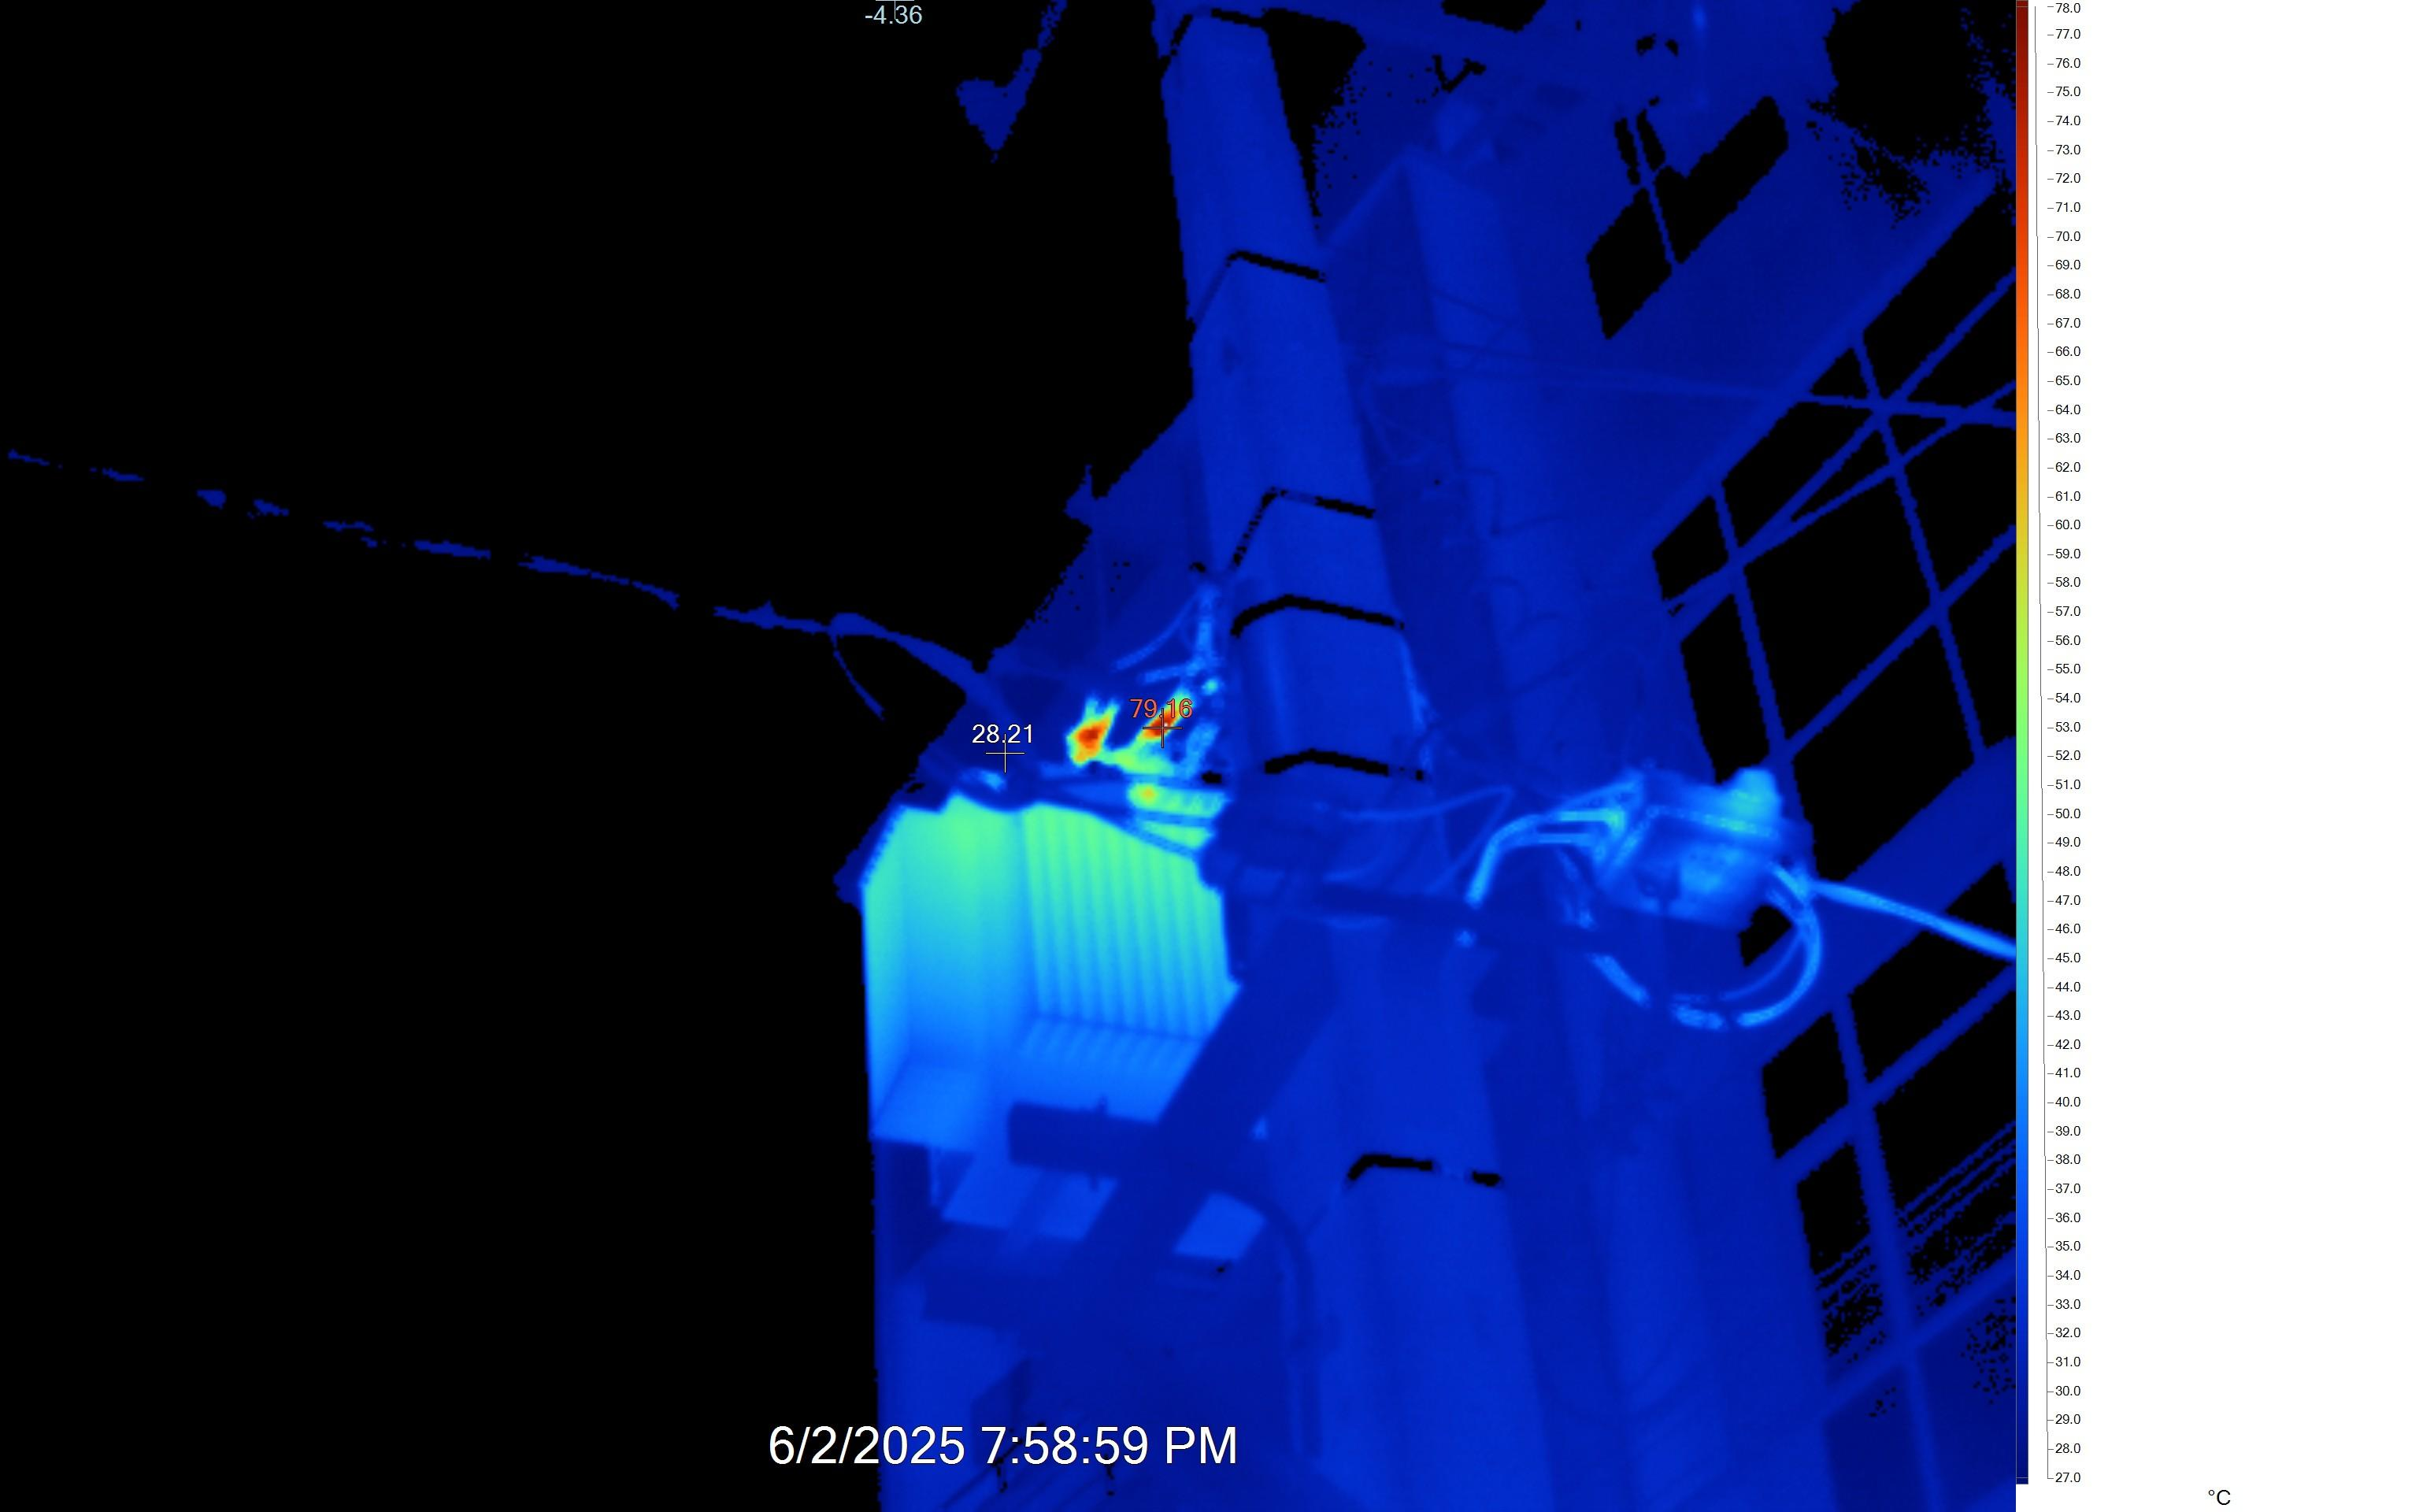Loose Joint -Faulty: (995, 655, 1249, 796)
normal: (876, 807, 1286, 1219)
